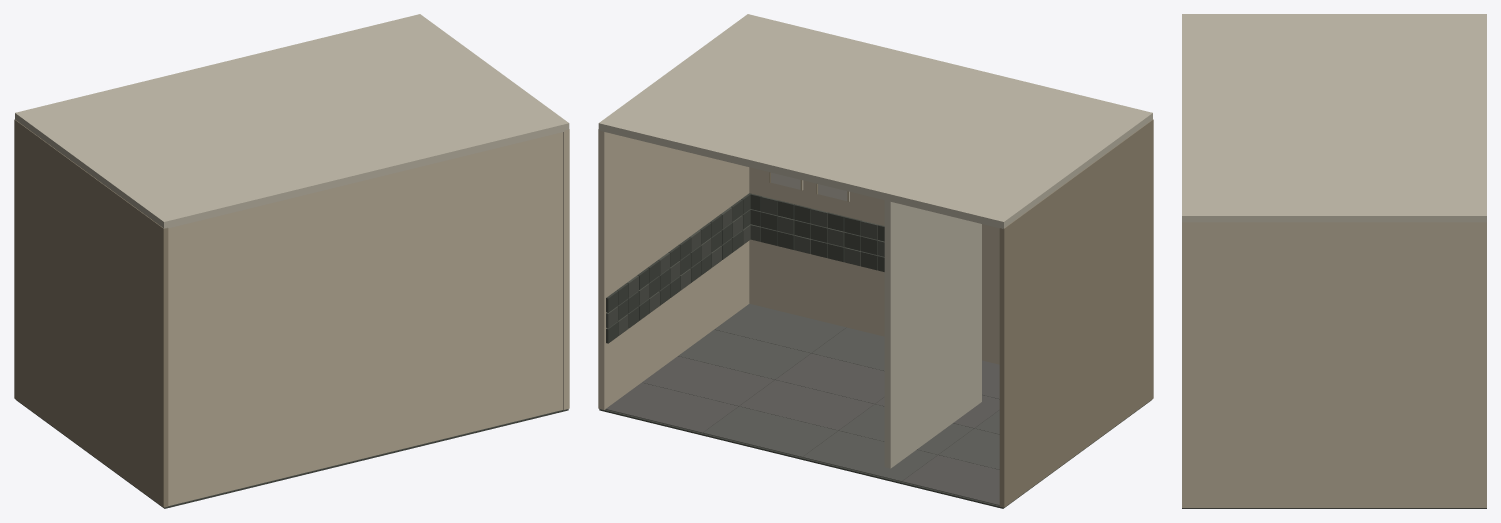
File: room.glb
3 renders of one model, left to right at view 1: azimuth 30°, elevation 25°; view 2: azimuth 150°, elevation 25°; view 3: azimuth 270°, elevation 25°, orthographic. The views are drawn at different scales.
Parts seen in each view (by area): view 1: 실내 조명 베이크용 room; view 2: 실내 조명 베이크용 room; view 3: 실내 조명 베이크용 room.
Boxes of the visible parts, x1,y1,x2,y2 form: 실내 조명 베이크용 room: (14,14,569,508); 실내 조명 베이크용 room: (598,14,1153,508); 실내 조명 베이크용 room: (1182,14,1486,508).
Bounding box in the file's own units: 4.34 × 2.93 × 2.76.
